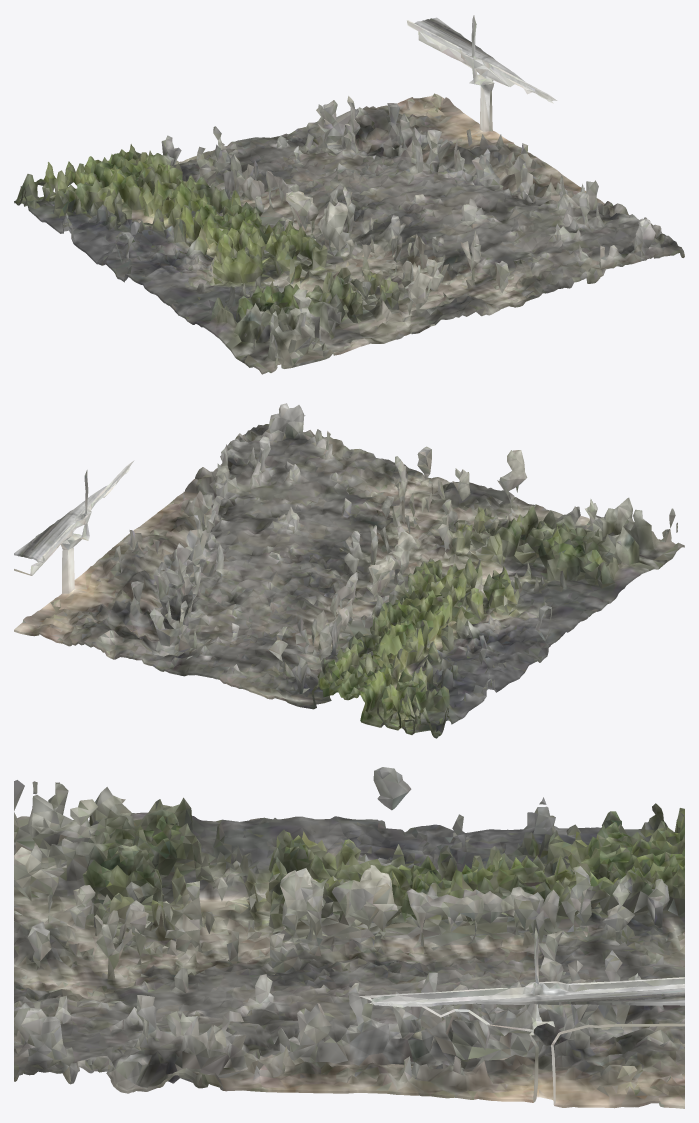
Rendered from Block_L16_33.glb.
The picture shows the model from 3 angles, top to bottom: view 1: azimuth 30°, elevation 25°; view 2: azimuth 150°, elevation 25°; view 3: azimuth 270°, elevation 25°; orthographic projection. The views are drawn at different scales.
Parts seen in each view (by area): view 1: rtc; view 2: rtc; view 3: rtc.
Boxes of the visible parts, <box> form: rtc: <box>14,15,684,374</box>; rtc: <box>14,403,684,738</box>; rtc: <box>14,767,684,1108</box>.
Bounding box in the file's own units: 81.02 × 24.53 × 82.31.
Materials: 2 (2 with a texture image).
